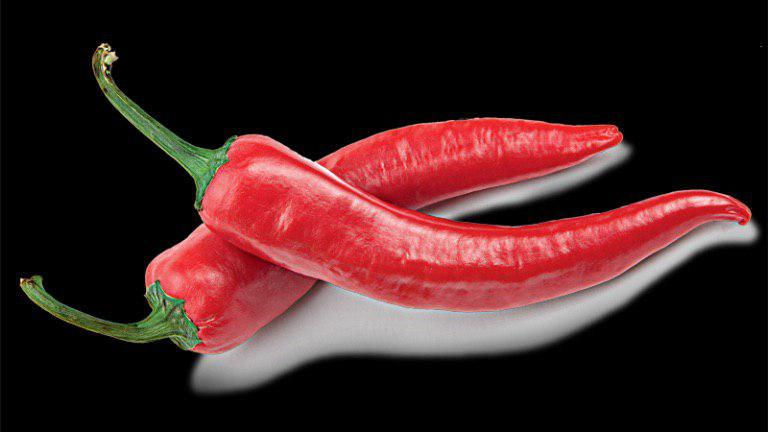lada merah: (144, 83, 624, 365), (197, 108, 768, 312)
